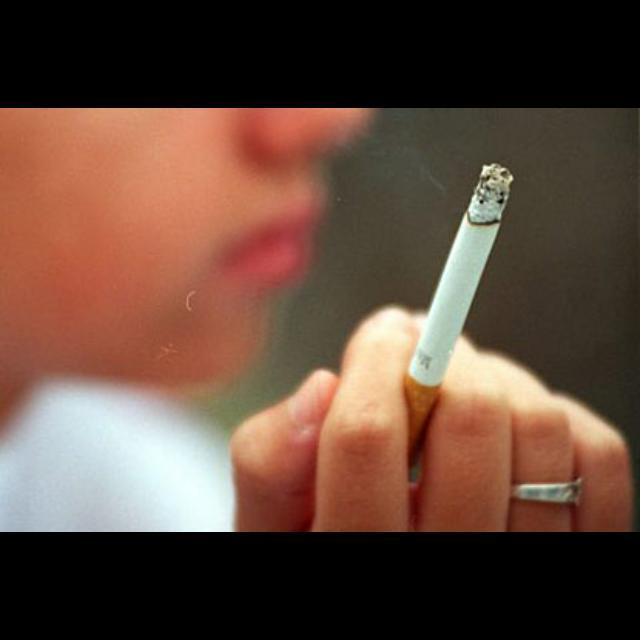rokok: (394, 148, 510, 438)
